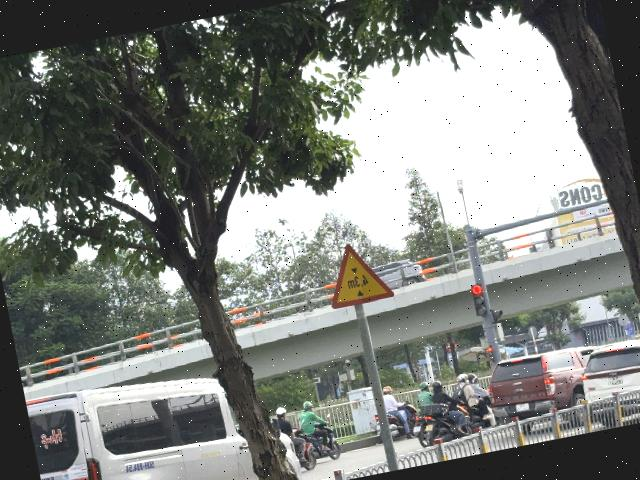chieu-cao-tinh-khong-thuc-te: (320, 236, 394, 309)
